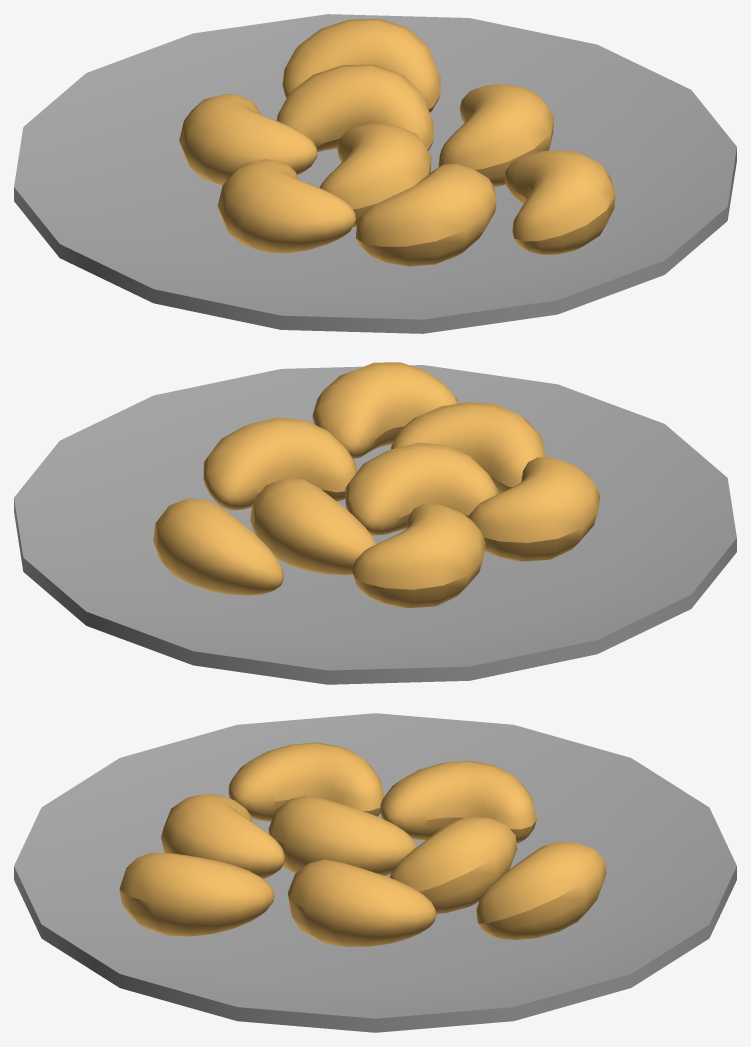
The model's file is mixture.fbx.
The picture shows the model from 3 angles, top to bottom: view 1: azimuth 30°, elevation 25°; view 2: azimuth 150°, elevation 25°; view 3: azimuth 270°, elevation 25°; orthographic projection.
Visible parts, largest first — view 1: plate, bean6, bean4, bean7, bean1, bean, bean5, bean3, bean2; view 2: plate, bean, bean5, bean4, bean2, bean3, bean7, bean1, bean6; view 3: plate, bean7, bean5, bean3, bean, bean4, bean2, bean1, bean6.
Boxes of the visible parts, x1,y1,x2,y2 form: plate: [14, 14, 736, 333]; bean6: [356, 164, 496, 266]; bean4: [217, 159, 356, 253]; bean7: [504, 150, 615, 254]; bean1: [276, 64, 433, 151]; bean: [179, 94, 317, 185]; bean5: [438, 84, 554, 186]; bean3: [282, 19, 440, 112]; bean2: [319, 123, 431, 227]; plate: [14, 365, 736, 684]; bean: [351, 504, 485, 608]; bean5: [203, 417, 356, 510]; bean4: [468, 457, 600, 561]; bean2: [345, 442, 498, 535]; bean3: [153, 498, 283, 595]; bean7: [312, 362, 458, 458]; bean1: [250, 478, 376, 575]; bean6: [391, 402, 545, 493]; plate: [14, 713, 736, 1032]; bean7: [119, 852, 274, 936]; bean5: [287, 859, 436, 946]; bean3: [476, 841, 606, 939]; bean: [380, 761, 536, 843]; bean4: [228, 742, 383, 821]; bean2: [268, 795, 416, 875]; bean1: [389, 816, 517, 913]; bean6: [161, 794, 284, 878].
Bounding box in the file's own units: 278 × 36.83 × 278.
